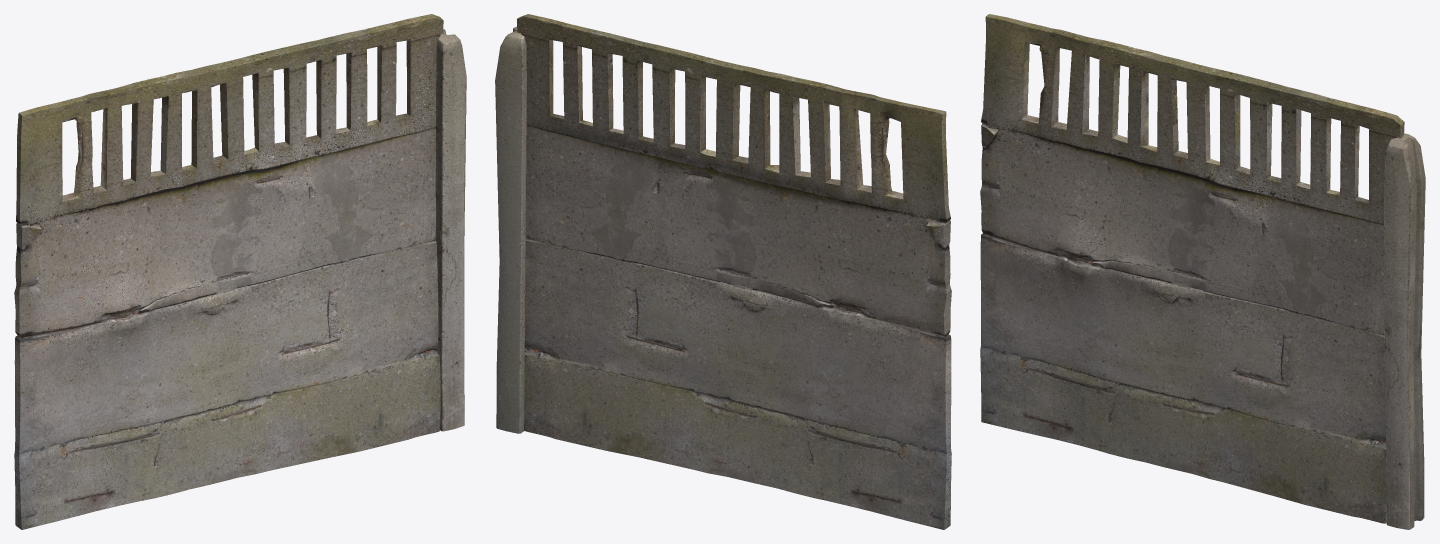
Rendered from sm_ConcreteFence_01_01.fbx.
3 views of the same model, side by side, from view 1: azimuth 30°, elevation 25°; view 2: azimuth 150°, elevation 25°; view 3: azimuth 330°, elevation 25° (orthographic). The views are drawn at different scales.
Visible parts, largest first — view 1: sm_ConcreteFence_01_01_LOD0; view 2: sm_ConcreteFence_01_01_LOD0; view 3: sm_ConcreteFence_01_01_LOD0.
Part boxes in pixels (x1,y1,x2,y2): sm_ConcreteFence_01_01_LOD0: [14, 14, 466, 529]; sm_ConcreteFence_01_01_LOD0: [495, 14, 951, 529]; sm_ConcreteFence_01_01_LOD0: [980, 14, 1425, 529].
Size of the model in its own units: 17.32 by 224 by 199.
